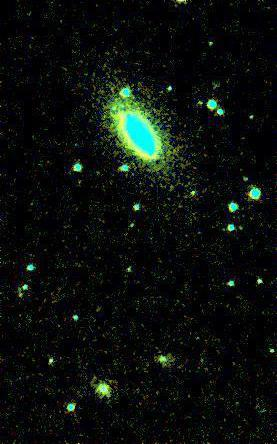star: (108, 225, 138, 255)
